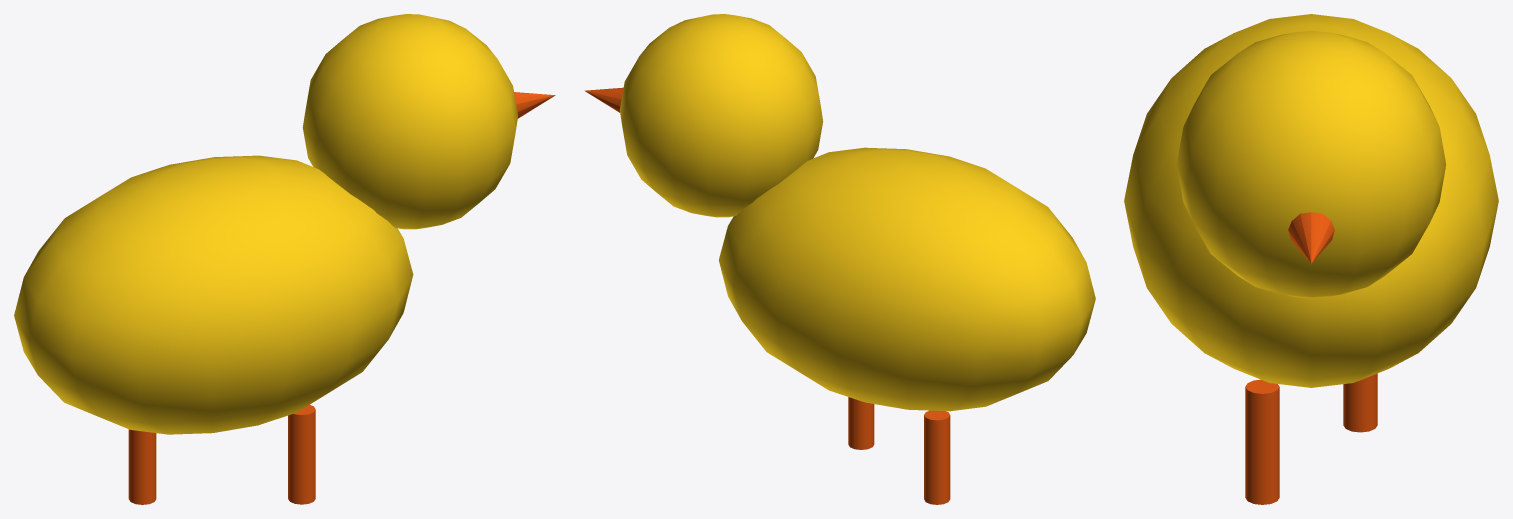
3 renders of one model, left to right at view 1: azimuth 30°, elevation 25°; view 2: azimuth 150°, elevation 25°; view 3: azimuth 270°, elevation 25°, orthographic. The views are drawn at different scales.
Visible parts, largest first — view 1: duck-standing; view 2: duck-standing; view 3: duck-standing.
Boxes of the visible parts, x1,y1,x2,y2 form: duck-standing: [14, 14, 555, 504]; duck-standing: [584, 14, 1095, 504]; duck-standing: [1124, 14, 1498, 504].
Bounding box in the file's own units: 0.616 × 0.48 × 0.306.
